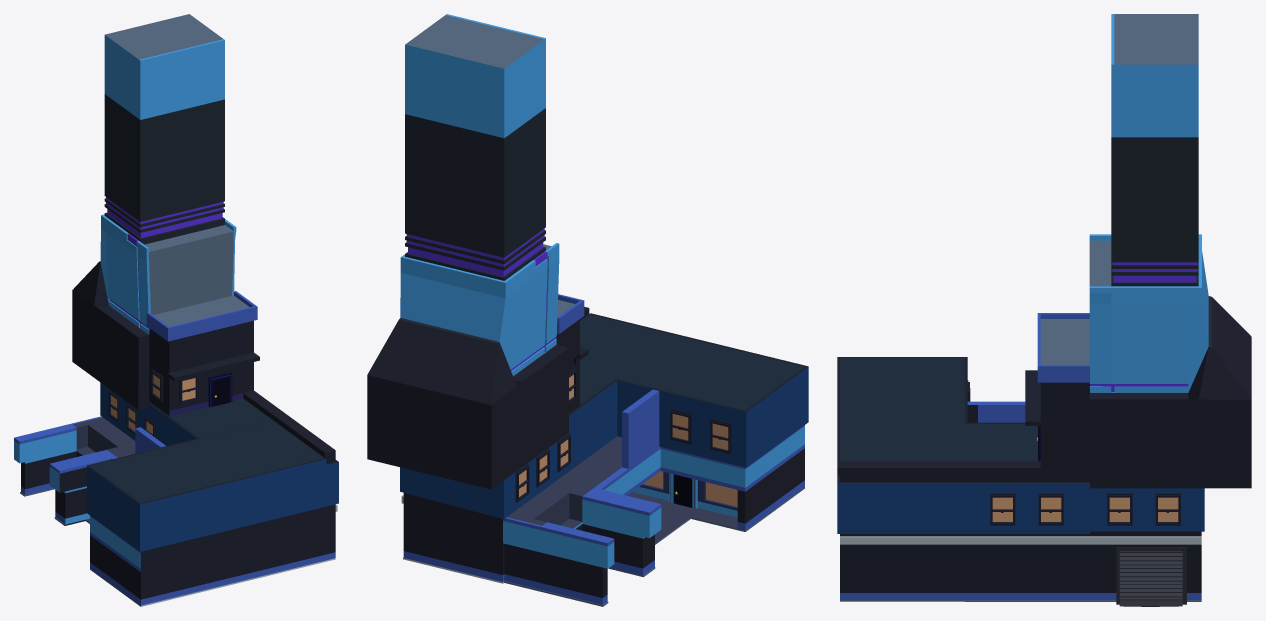
Rendered from Building_Ellervater.fbx.
The picture shows the model from 3 angles, left to right: view 1: azimuth 30°, elevation 25°; view 2: azimuth 150°, elevation 25°; view 3: azimuth 270°, elevation 25°; orthographic projection. The views are drawn at different scales.
Parts seen in each view (by area): view 1: Cube.585; view 2: Cube.585, Cube.808; view 3: Cube.585.
Boxes of the visible parts, bbox=[...] form: Cube.585: bbox=[14, 14, 338, 606]; Cube.585: bbox=[367, 14, 808, 606]; Cube.808: bbox=[673, 474, 692, 507]; Cube.585: bbox=[837, 14, 1251, 606].
Size of the model in its own units: 1149 by 2332 by 1623.
